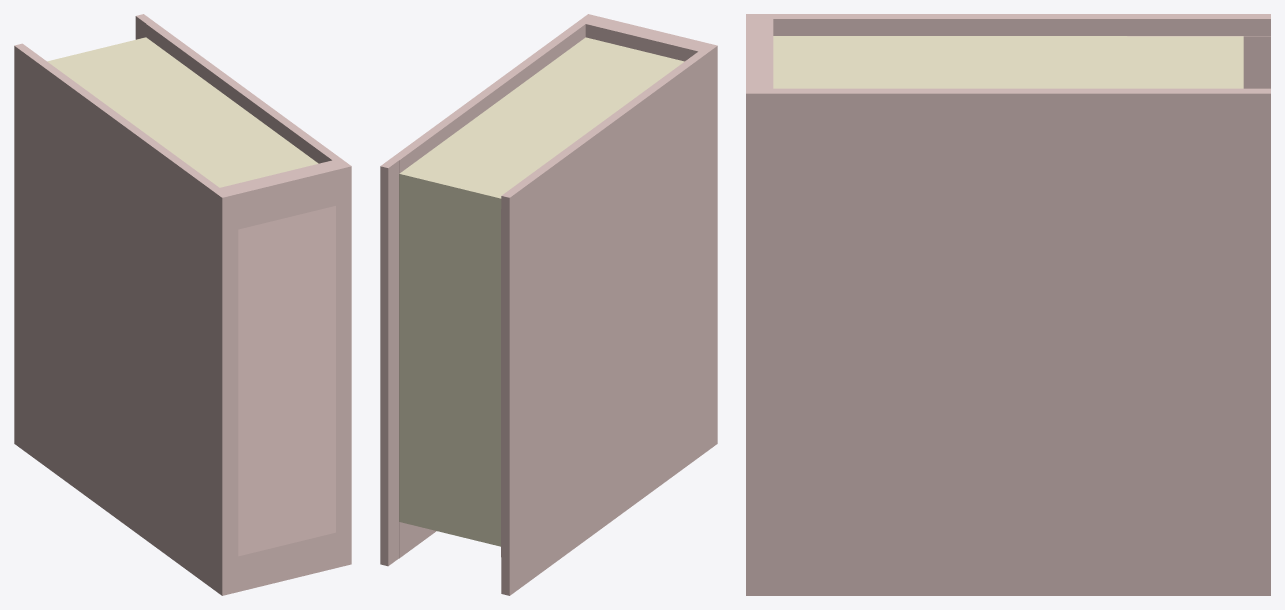
File: book_1.fbx
3 renders of one model, left to right at view 1: azimuth 30°, elevation 25°; view 2: azimuth 150°, elevation 25°; view 3: azimuth 270°, elevation 25°, orthographic. The views are drawn at different scales.
Parts seen in each view (by area): view 1: Boole_1; view 2: Boole_1; view 3: Boole_1.
Part boxes in pixels (bbox=[...]): Boole_1: bbox=[14, 14, 351, 595]; Boole_1: bbox=[380, 14, 717, 595]; Boole_1: bbox=[746, 14, 1270, 595].
Size of the model in its own units: 3.16 by 9.27 by 8.78.
